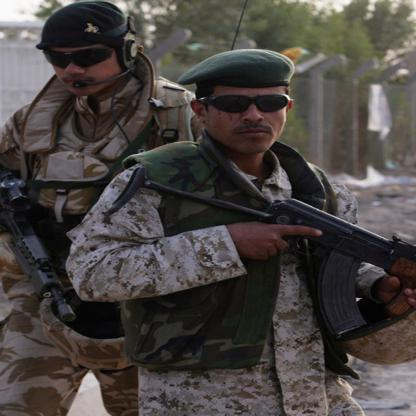face: (206, 82, 289, 154), (53, 37, 124, 96)
